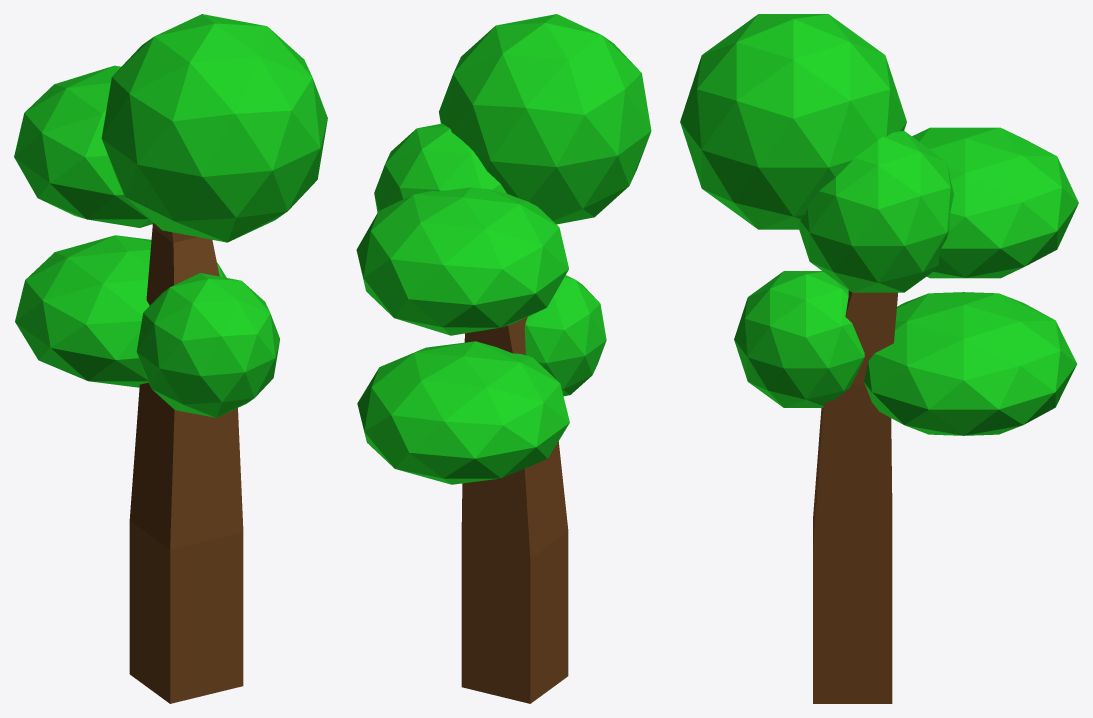
File: Tree1.fbx
The picture shows the model from 3 angles, left to right: view 1: azimuth 30°, elevation 25°; view 2: azimuth 150°, elevation 25°; view 3: azimuth 270°, elevation 25°; orthographic projection. The views are drawn at different scales.
Visible parts, largest first — view 1: Tree1; view 2: Tree1; view 3: Tree1.
Boxes of the visible parts, left/top/right/bottom form: Tree1: left=14, top=14, right=327, bottom=703; Tree1: left=356, top=14, right=651, bottom=703; Tree1: left=680, top=14, right=1078, bottom=703.
Size of the model in its own units: 120 by 353 by 191.
